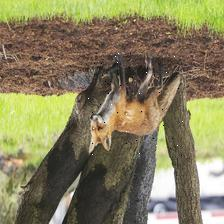fox: (86, 50, 189, 157)
